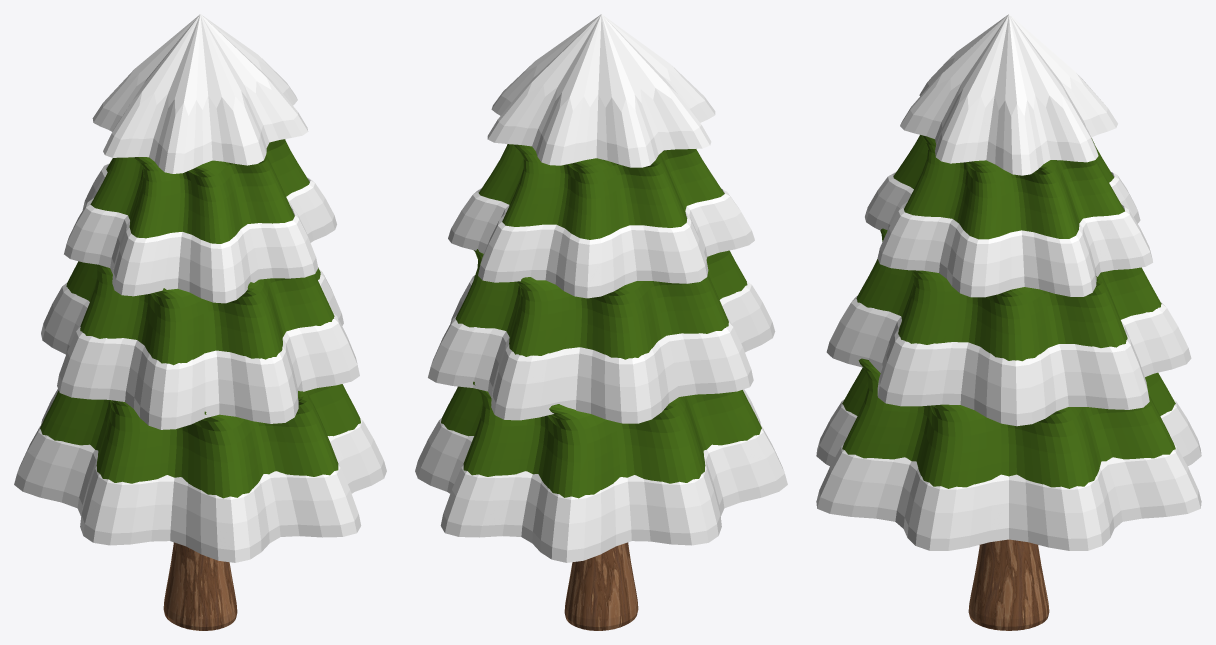
File: Pinoneve.fbx
The picture shows the model from 3 angles, left to right: view 1: azimuth 30°, elevation 25°; view 2: azimuth 150°, elevation 25°; view 3: azimuth 270°, elevation 25°; orthographic projection.
Visible parts, largest first — view 1: Pino_neve; view 2: Pino_neve; view 3: Pino_neve.
Boxes of the visible parts, left/top/right/bottom form: Pino_neve: left=14, top=14, right=386, bottom=630; Pino_neve: left=415, top=14, right=787, bottom=630; Pino_neve: left=816, top=14, right=1201, bottom=630.
Bounding box in the file's own units: 947 × 1848 × 1069.
